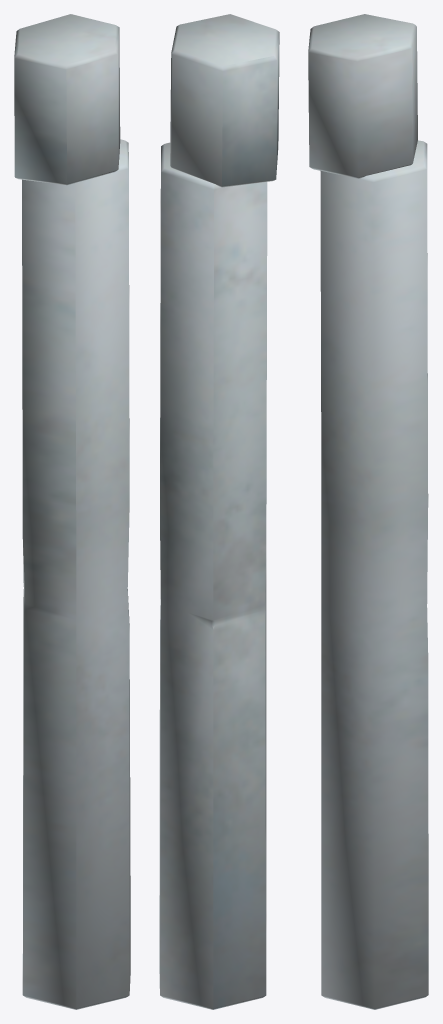
Rendered from P_RockHexic_Piece18.obj.
3 views of the same model, side by side, from view 1: azimuth 30°, elevation 25°; view 2: azimuth 150°, elevation 25°; view 3: azimuth 330°, elevation 25° (orthographic).
Size of the model in its own units: 4.46 by 34.61 by 3.7.
